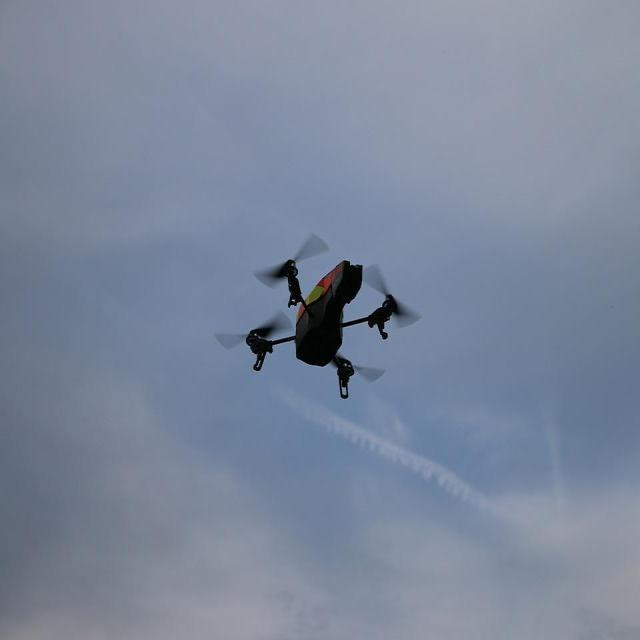drone: (214, 232, 424, 402)
